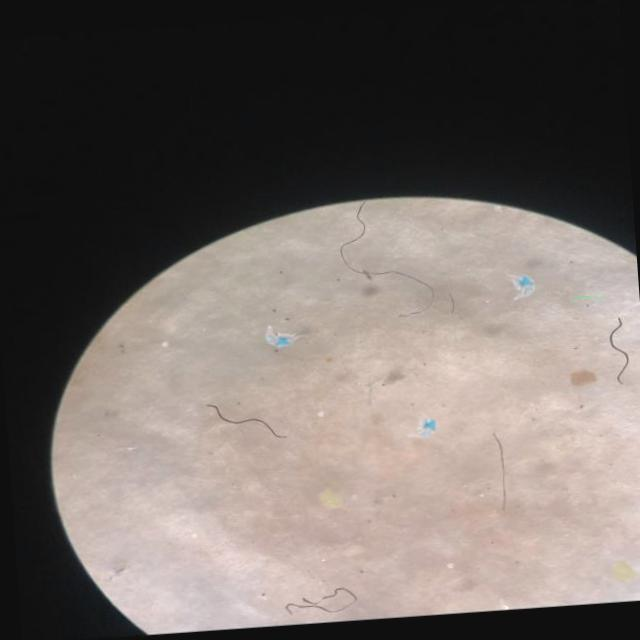fiber: (340, 202, 431, 292), (208, 403, 282, 437), (285, 587, 355, 612), (609, 316, 627, 382), (492, 433, 507, 507)
film: (264, 325, 293, 347), (516, 274, 533, 293), (419, 419, 435, 436)
fragment: (612, 560, 634, 579), (318, 489, 340, 507), (570, 370, 596, 385)
pellet: (190, 532, 197, 537), (447, 562, 454, 567), (162, 341, 167, 346), (317, 411, 322, 415)
